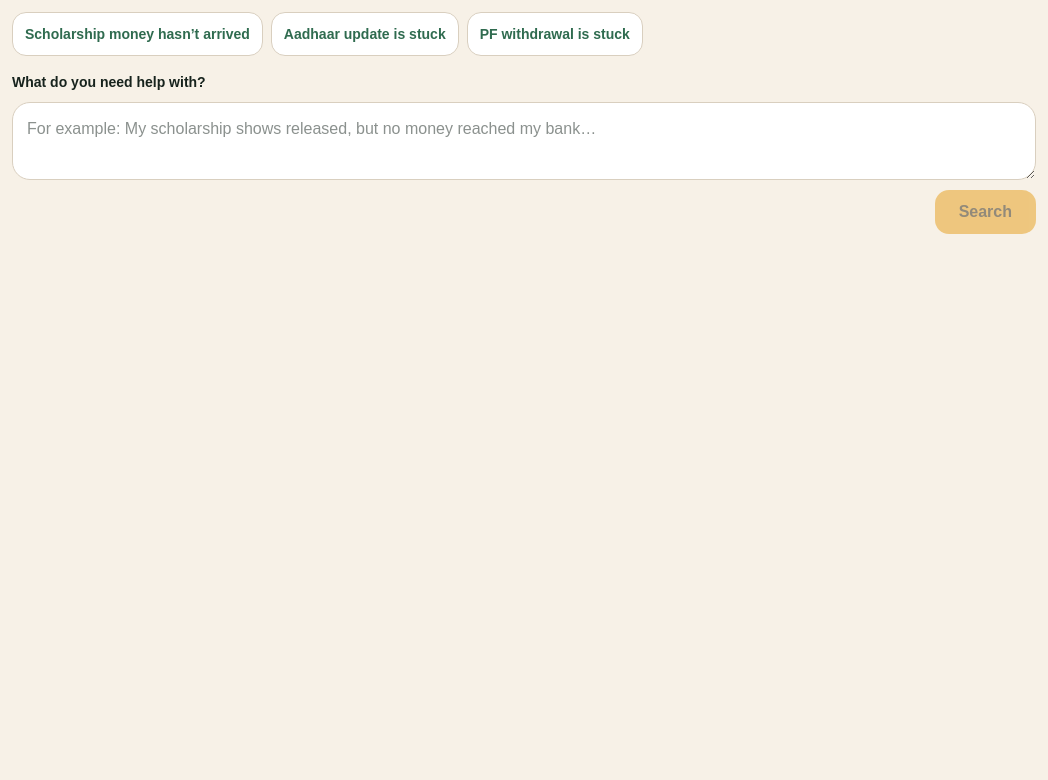
Test: an unconfirmed retrieval result requires explicit citizen confirmation
The width and height of the screenshot is (1048, 780).
Replace the text in the text box labelled "What do you need help with?" with "scholarship" at point(524, 141), box 12,102 -> 1036,180
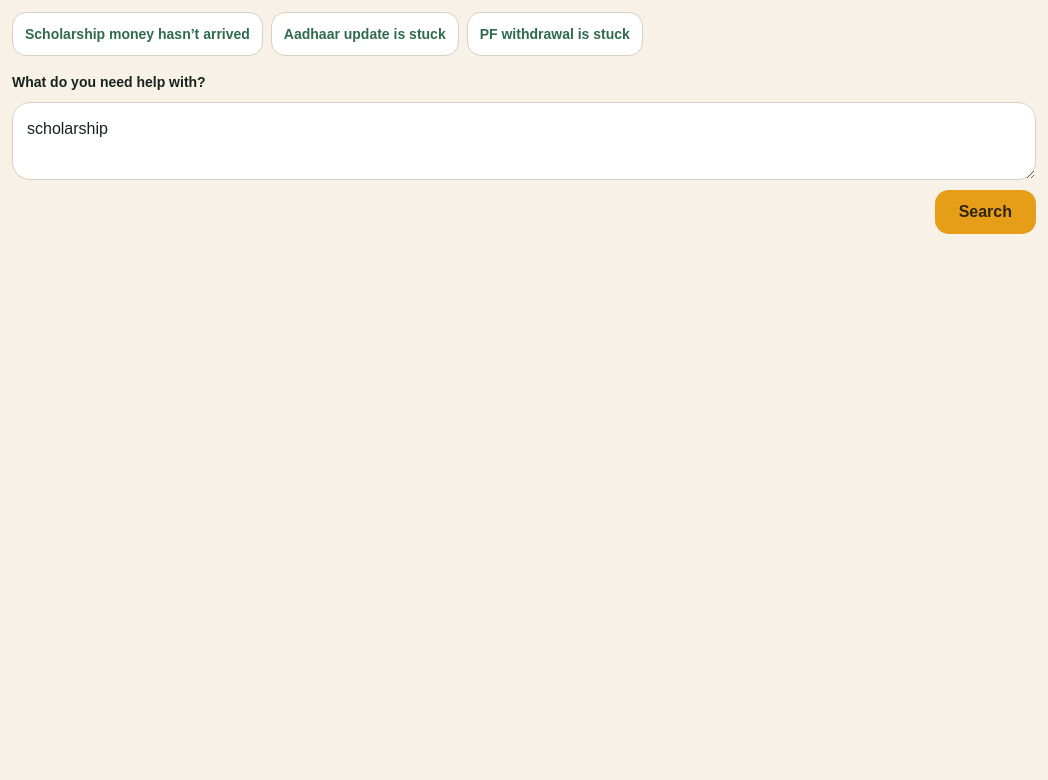
Click the button "Search" at point(985, 212), box 935,190 -> 1036,234
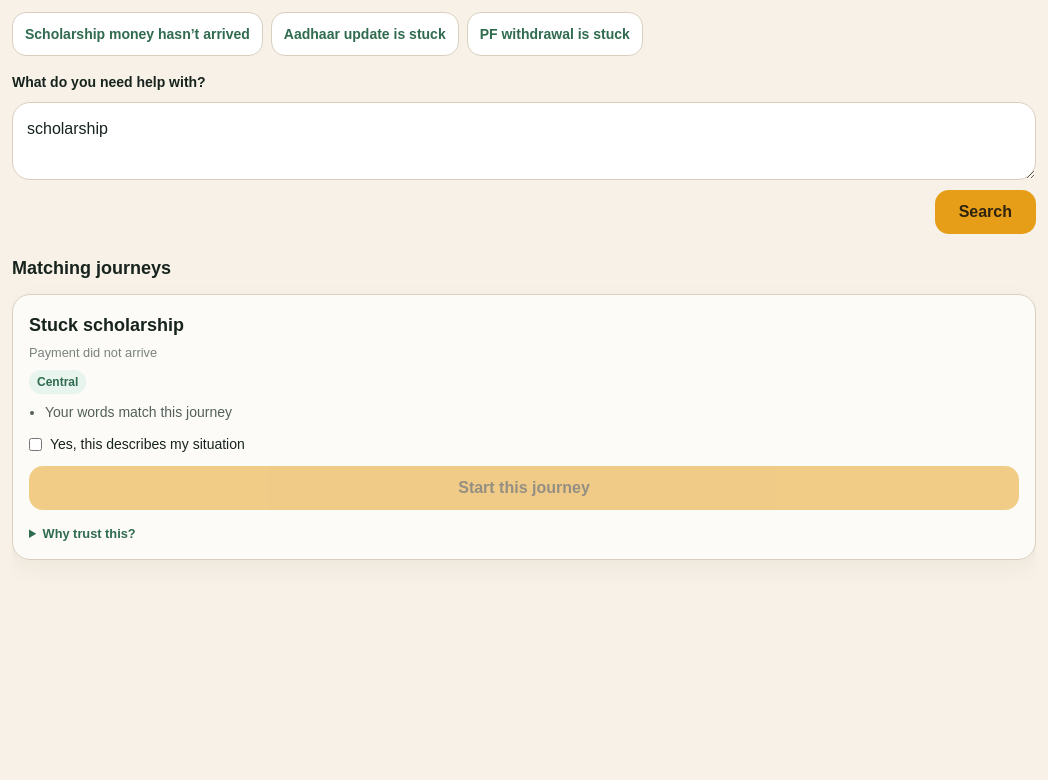
Now the button "Start this journey" is disabled, box 29,466 -> 1019,510
Click the checkbox labelled "Yes, this describes my situation" at point(36, 444), box 29,438 -> 42,451
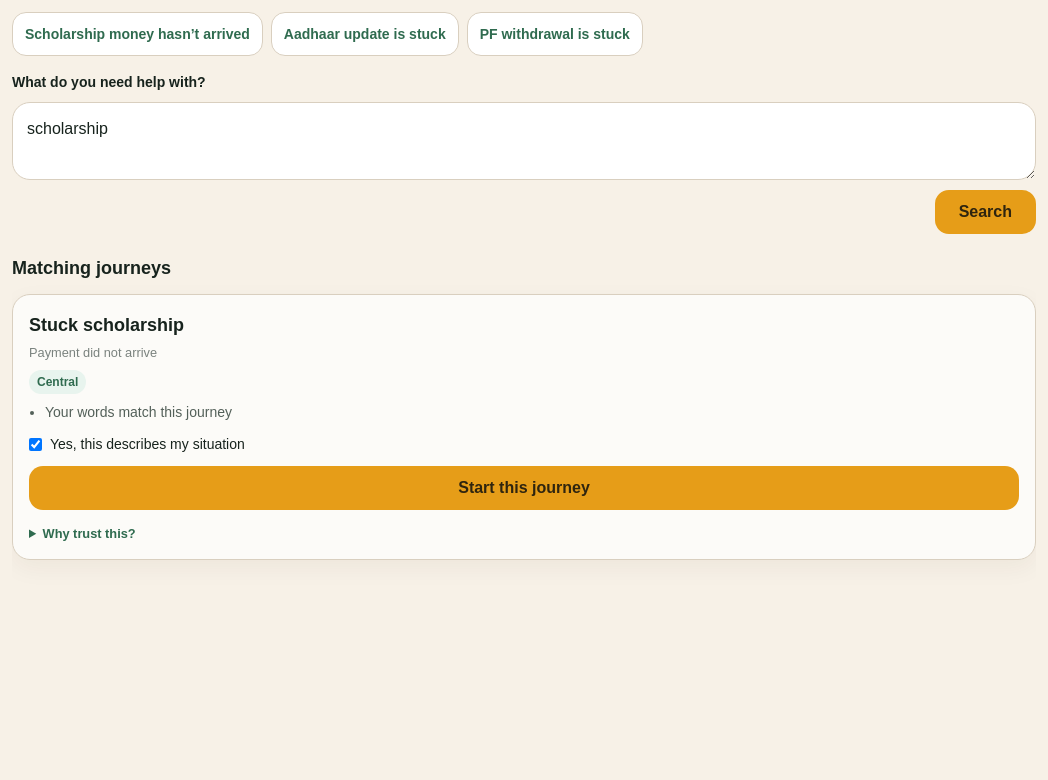
Now the button "Start this journey" is enabled, box 29,466 -> 1019,510
